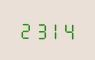four: (60, 20, 73, 40)
one: (46, 19, 59, 40)
three: (32, 19, 45, 39)
two: (18, 19, 31, 39)
